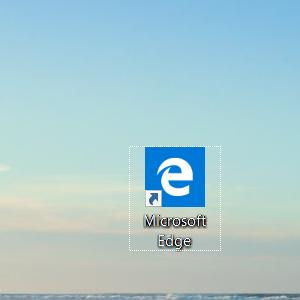edge: (145, 147, 205, 207)
